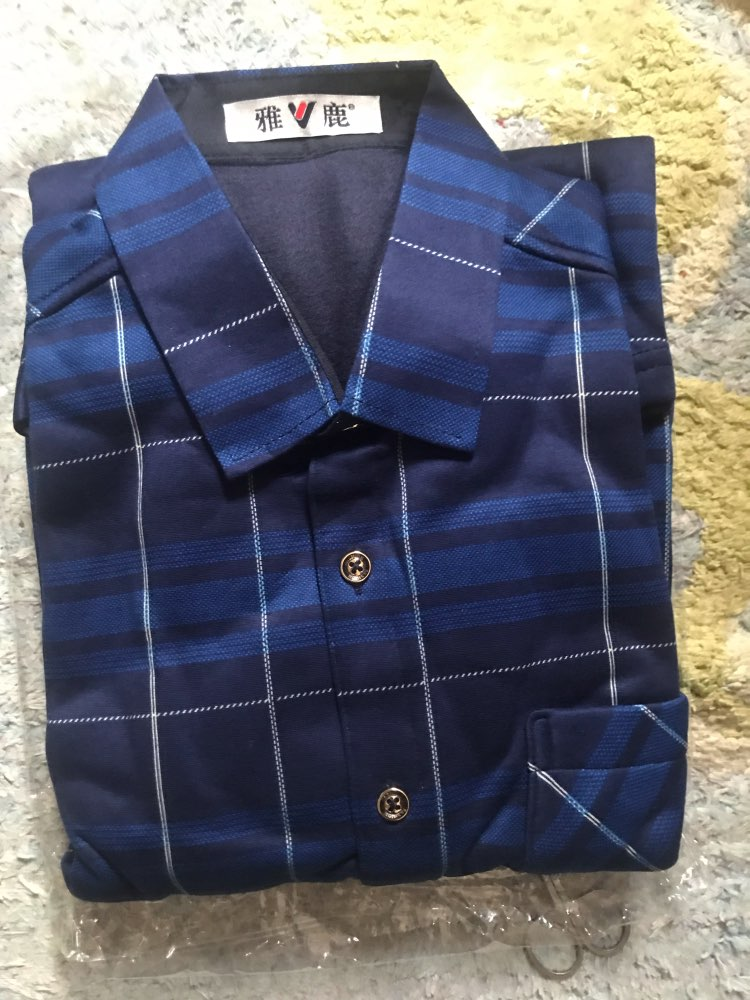shirts: (47, 59, 677, 883)
